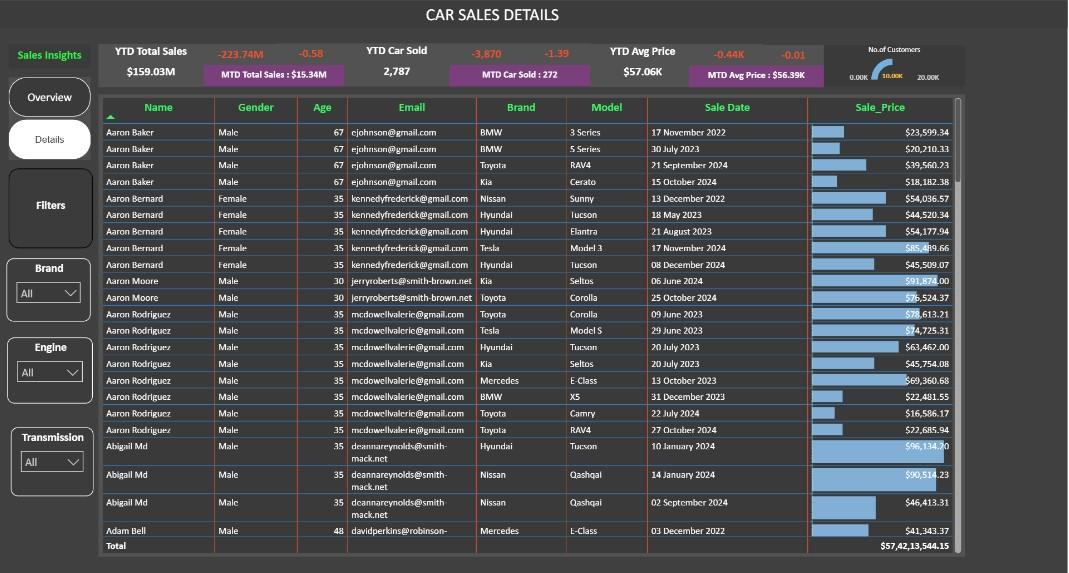

This screenshot's page, from the dashboard's own definition file:
{"tool":"powerbi","page":{"name":"Details","canvas":[1500,1200],"ordinal":1},"visuals":[{"type":"textbox","box":[0,0,1956,39],"z":0},{"type":"textbox","box":[27,61,114,34],"z":1000},{"type":"pageNavigator","box":[27,107,114,115],"z":2000},{"type":"textbox","box":[27,234,117,111],"z":3000},{"type":"slicer","title":"Brand","fields":{"Values":["Cars.Brand"]},"box":[24,359,117,88],"z":4000},{"type":"slicer","title":"Engine","fields":{"Values":["Cars.Engine_Type"]},"box":[25,469,119,92],"z":5000},{"type":"slicer","title":"Transmission","fields":{"Values":["Cars.Transmission"]},"box":[30,594,115,96],"z":6000},{"type":"card","title":"YTD Total  Sales","fields":{"Values":["Sales.Total YTD Sales1"]},"box":[152,61,146,60],"z":7000},{"type":"card","fields":{"Values":["Sales.Sales Diffrence"]},"box":[298,61,103,31],"z":8000},{"type":"card","fields":{"Values":["Sales.YOY Sales Growth"]},"box":[401,60,93,30],"z":9000},{"type":"card","fields":{"Values":["Sales.MTD KPI"]},"box":[298,90,196,30],"z":10000},{"type":"card","title":"YTD Car Sold","fields":{"Values":["Sales.YTD Car Solds1"]},"box":[494,60,146,60],"z":11000},{"type":"card","fields":{"Values":["Sales.Cars Sold Diff1"]},"box":[640,60,103,31],"z":12000},{"type":"card","fields":{"Values":["Sales.YOY Car Sold Growth1"]},"box":[743,60,93,30],"z":13000},{"type":"card","fields":{"Values":["Sales.MTD KPI1"]},"box":[640,90,196,30],"z":14000},{"type":"card","title":"YTD Avg Price","fields":{"Values":["Sales.YTD Avg Price1"]},"box":[836,61,146,60],"z":15000},{"type":"card","fields":{"Values":["Sales.Avg Price Diff"]},"box":[982,61,94,31],"z":16000},{"type":"card","fields":{"Values":["Sales.YOY Avg Price Growth1"]},"box":[1076,62,85,30],"z":17000},{"type":"card","fields":{"Values":["Sales.MTD Avg Price KPI"]},"box":[973,91,188,30],"z":18000},{"type":"tableEx","fields":{"Values":["Customers.Name","Customers.Gender","Customers.Age","Customers.Email","Cars.Brand","Cars.Model","Sales.Sale_Date","Sum(Sales.Sale_Price)"]},"box":[152,131,1205,643],"z":19000},{"type":"gauge","title":"No.of Customers","fields":{"Y":["CountNonNull(Sales.Customer_ID)"]},"box":[1161,62,196,58],"z":20000}]}

Visuals, with their boxes on the page's 1500x1200 design canvas (x1, y1, x2, y2). These are canvas units, not pixel positions in the 1069x573 screenshot, which may show the page scaled, cropped or inside an application window:
textbox: select_region(0, 0, 1956, 39)
textbox: select_region(27, 61, 141, 95)
pageNavigator: select_region(27, 107, 141, 222)
textbox: select_region(27, 234, 144, 345)
"Brand" slicer: select_region(24, 359, 141, 447)
"Engine" slicer: select_region(25, 469, 144, 561)
"Transmission" slicer: select_region(30, 594, 145, 690)
"YTD Total  Sales" card: select_region(152, 61, 298, 121)
card - Sales.Sales Diffrence: select_region(298, 61, 401, 92)
card - Sales.YOY Sales Growth: select_region(401, 60, 494, 90)
card - Sales.MTD KPI: select_region(298, 90, 494, 120)
"YTD Car Sold" card: select_region(494, 60, 640, 120)
card - Sales.Cars Sold Diff1: select_region(640, 60, 743, 91)
card - Sales.YOY Car Sold Growth1: select_region(743, 60, 836, 90)
card - Sales.MTD KPI1: select_region(640, 90, 836, 120)
"YTD Avg Price" card: select_region(836, 61, 982, 121)
card - Sales.Avg Price Diff: select_region(982, 61, 1076, 92)
card - Sales.YOY Avg Price Growth1: select_region(1076, 62, 1161, 92)
card - Sales.MTD Avg Price KPI: select_region(973, 91, 1161, 121)
tableEx - Customers.Name x Customers.Gender: select_region(152, 131, 1357, 774)
"No.of Customers" gauge: select_region(1161, 62, 1357, 120)
